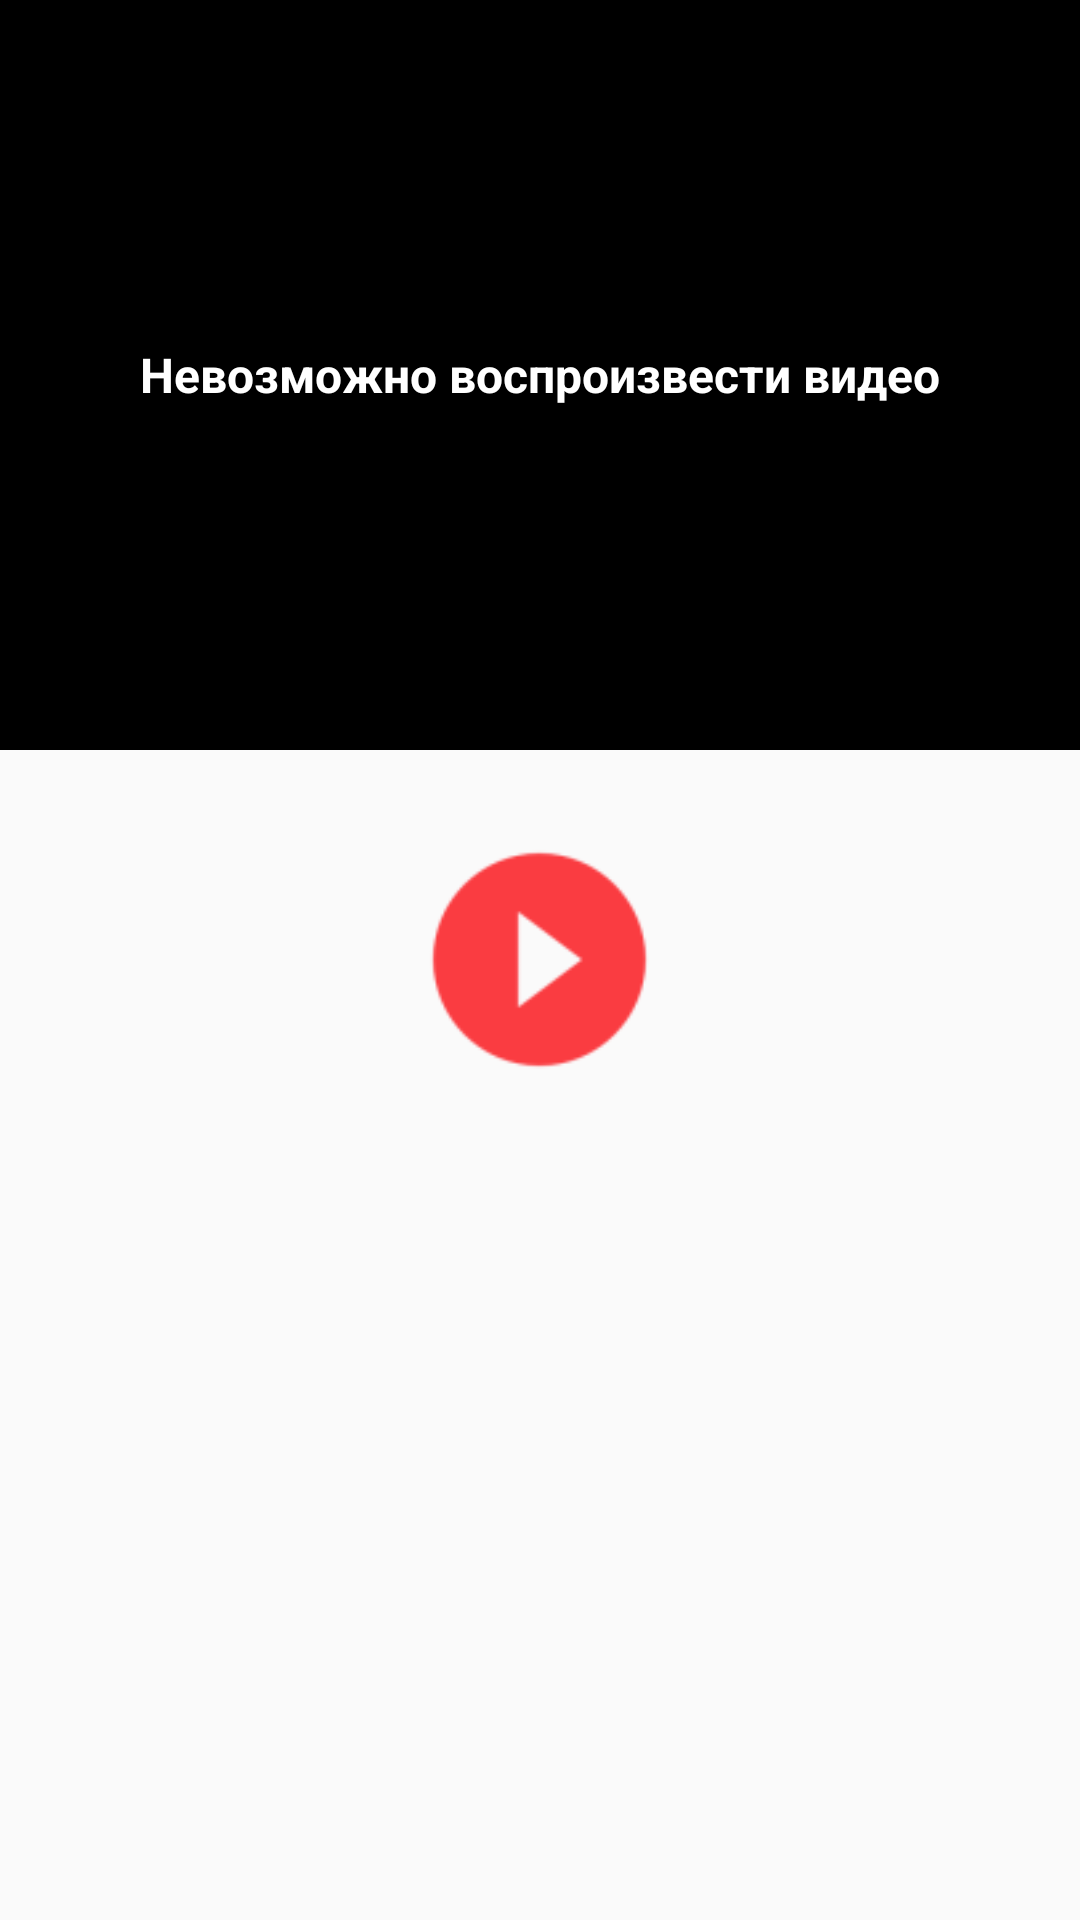

Icons on this 1080*1920 Android screen, each with its box as (x1, y1, x2, y2):
play circle: (432, 852, 647, 1067)
